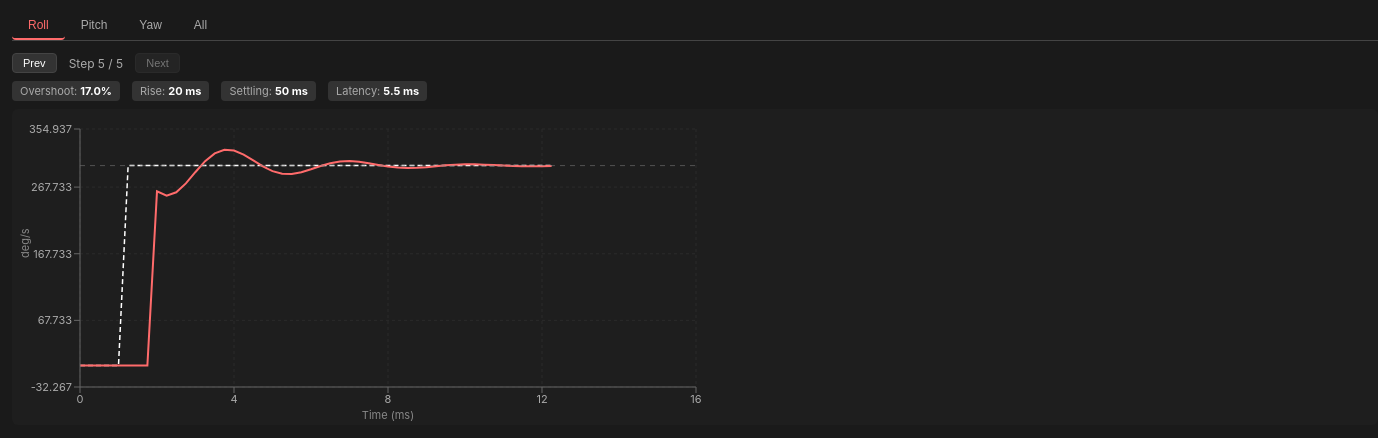
Scenario: StepResponseChart › switches to pitch axis when tab clicked
The width and height of the screenshot is (1378, 438).
Click the tab "Pitch". click: (94, 26)
box: [65,12,123,40]
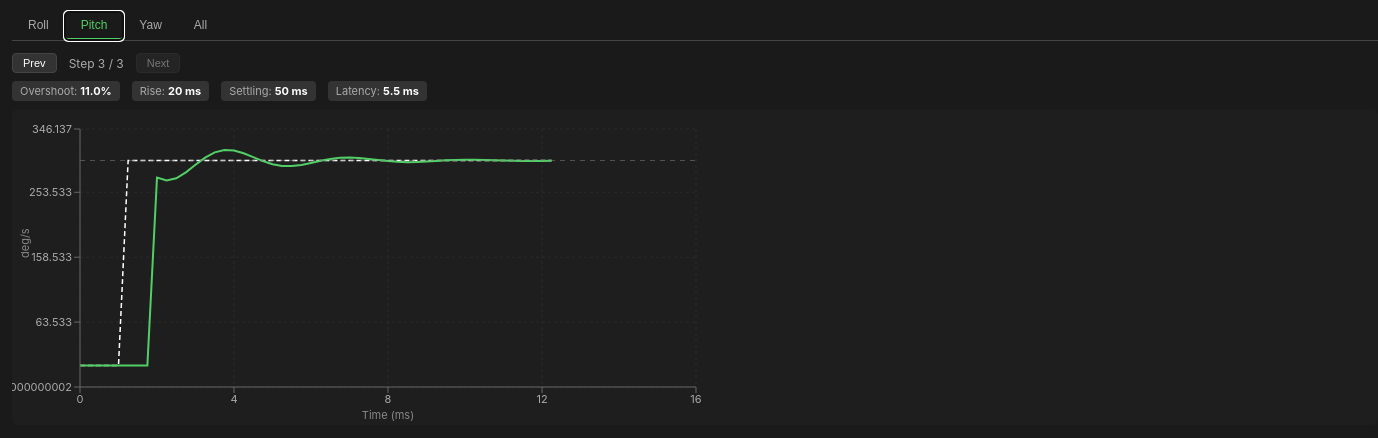
expect the text "Step 3 / 3" is shown: met, box [69,56,124,70]
